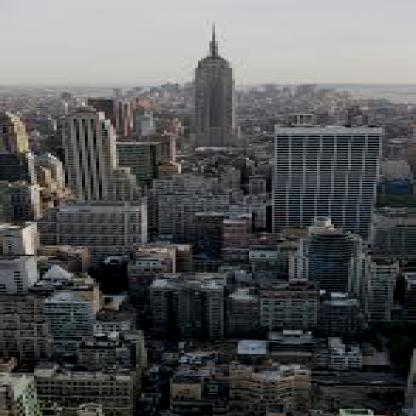Empire-State-building: (186, 12, 246, 144)
